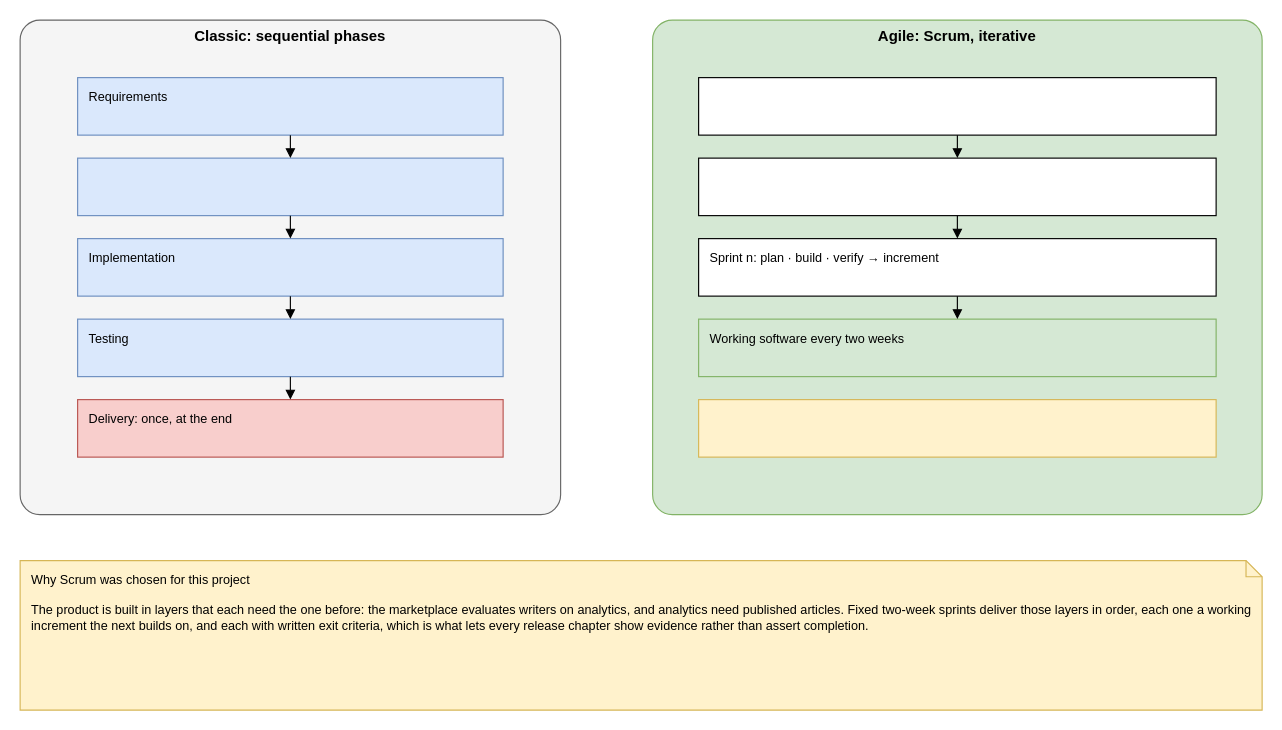
This 1282x730 diagram has some shape labels left out. Here are the shapes that lost their labels. From the top down, the centre of each, then its label:
At [956,105]: "Sprint 1: plan · build · verify → increment".
At [289,186]: "Design".
At [956,186]: "Sprint 2: plan · build · verify → increment".
At [956,427]: "Each increment reviewed before the next is planned".
